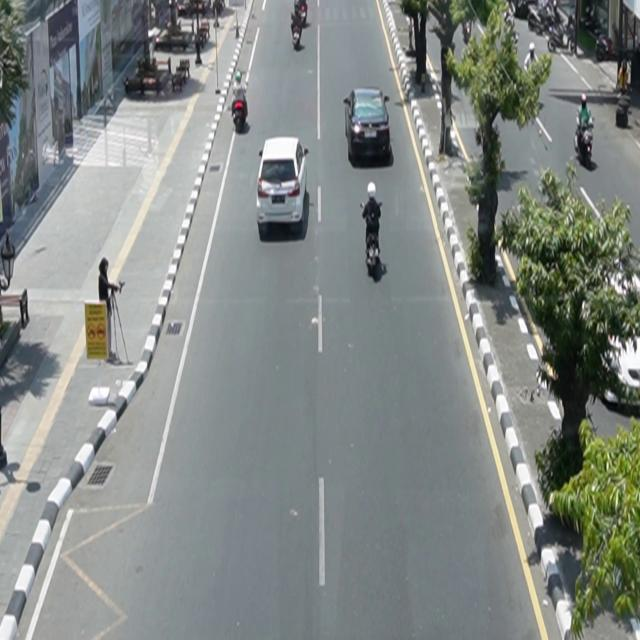car: (257, 136, 310, 233), (344, 87, 392, 163)
